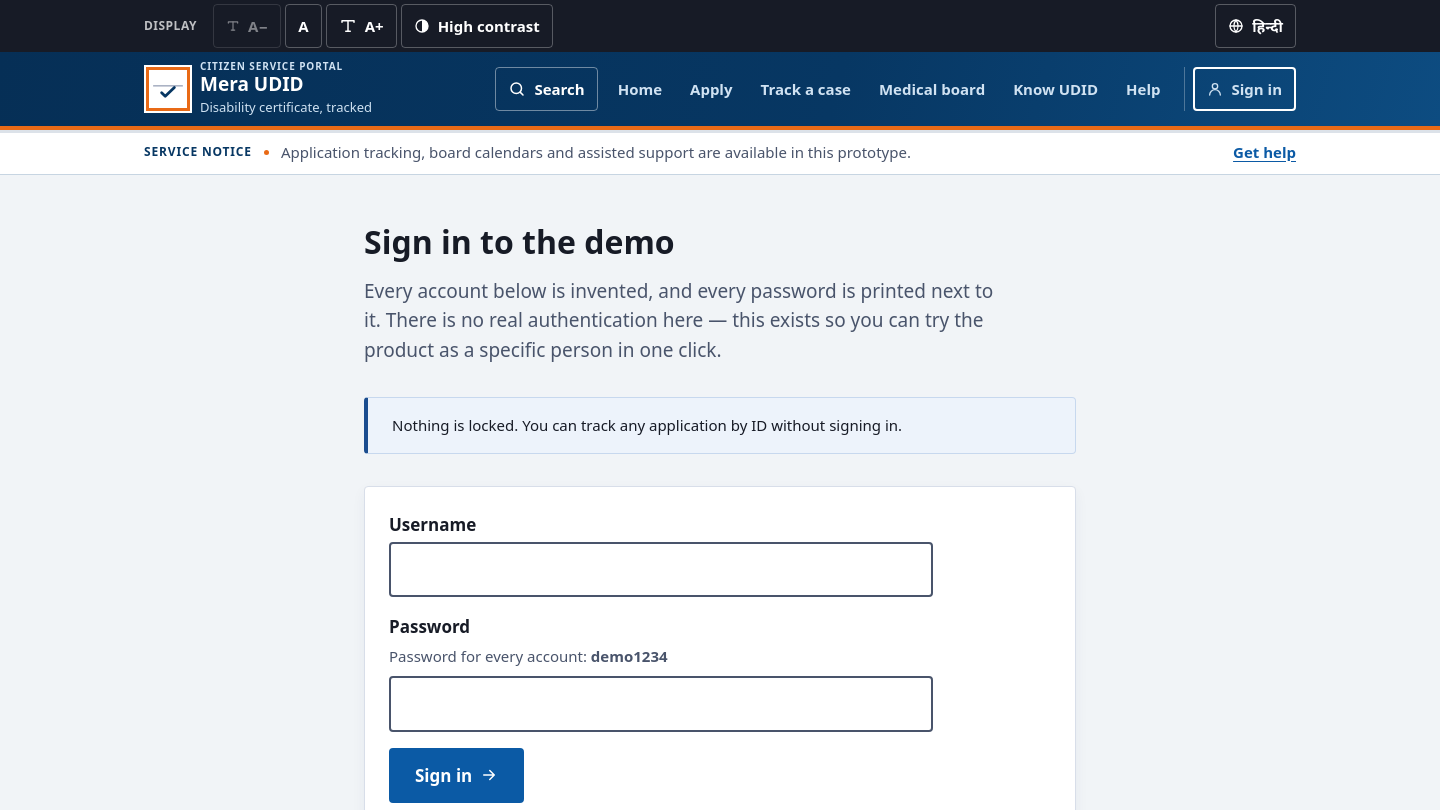
demo sign-in › sends a staff account to the queue, not to a citizen dashboard
Type "officer" into the field labelled "Username". click: (661, 570)
box: x1=389 y1=542 x2=933 y2=597
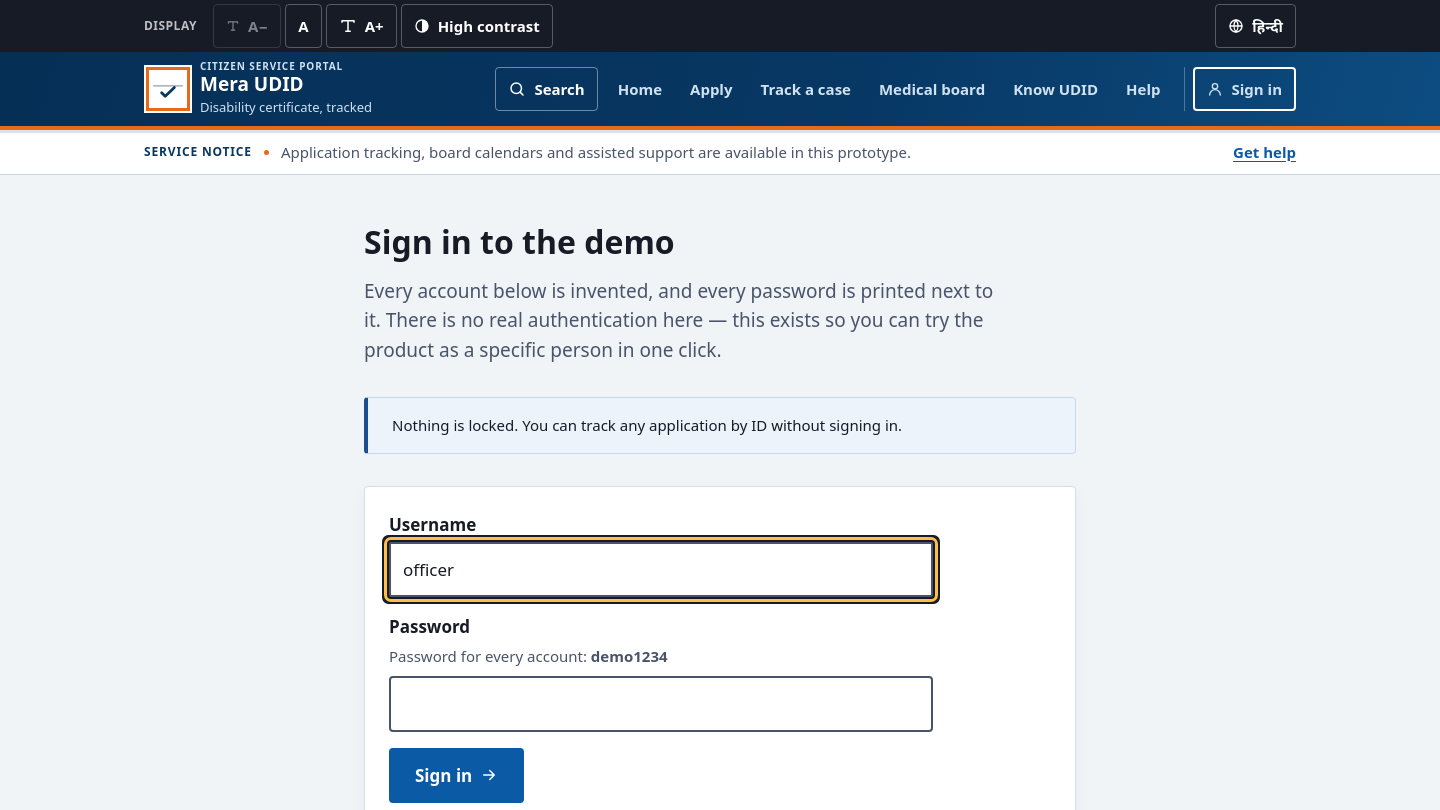
Type "demo1234" into the field labelled "Password". click: (661, 704)
box: x1=389 y1=676 x2=933 y2=732
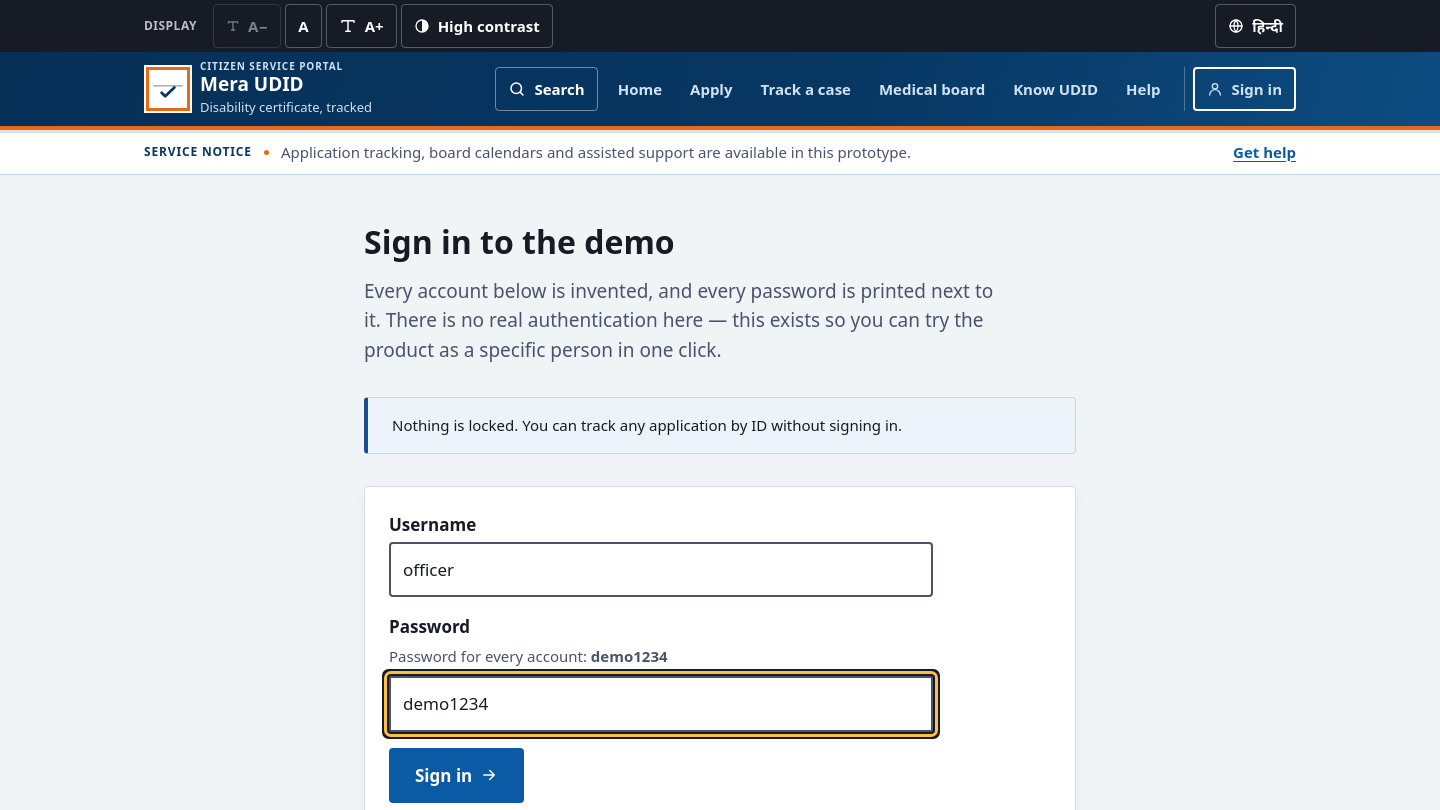
Click the button "Sign in". click: (457, 775)
box: x1=389 y1=748 x2=524 y2=803
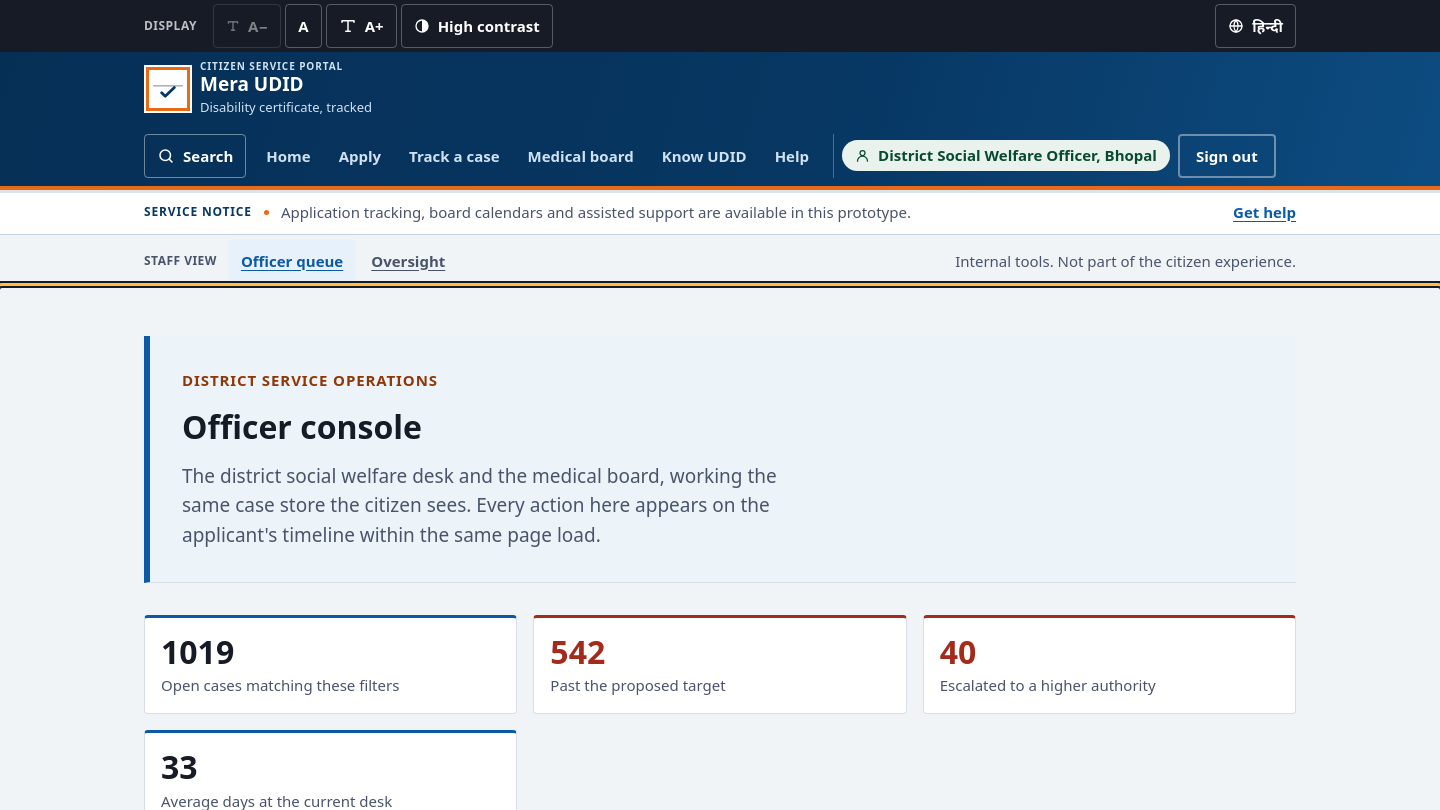
Expected: the heading "Officer console" is shown, x1=182 y1=405 x2=422 y2=448
